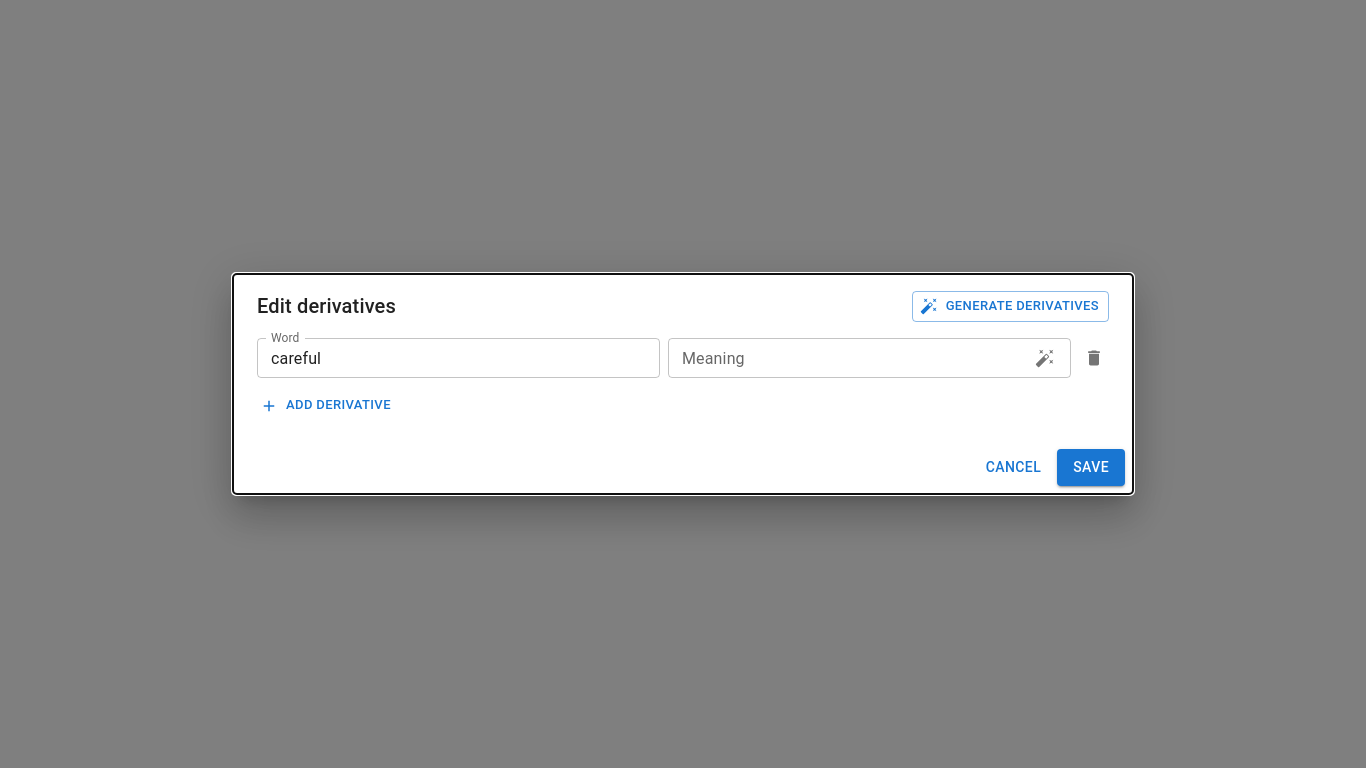
DerivativeEditDialog › shows an API error message when the single lookup returns an error
Click the button named "Generate meanings: careful".
click(1045, 358)  # box [1030, 343, 1060, 373]
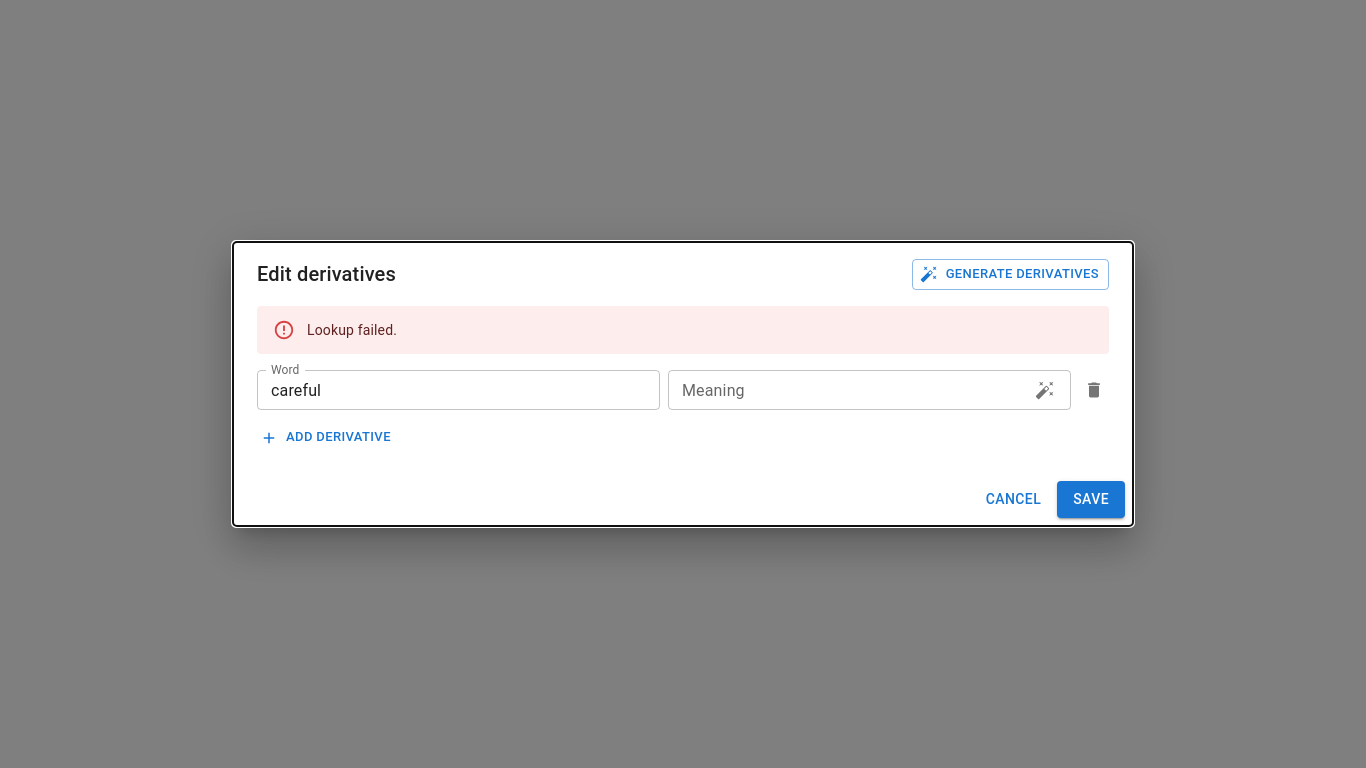
Check: the text "Lookup failed." is shown, box [307, 322, 397, 338]
